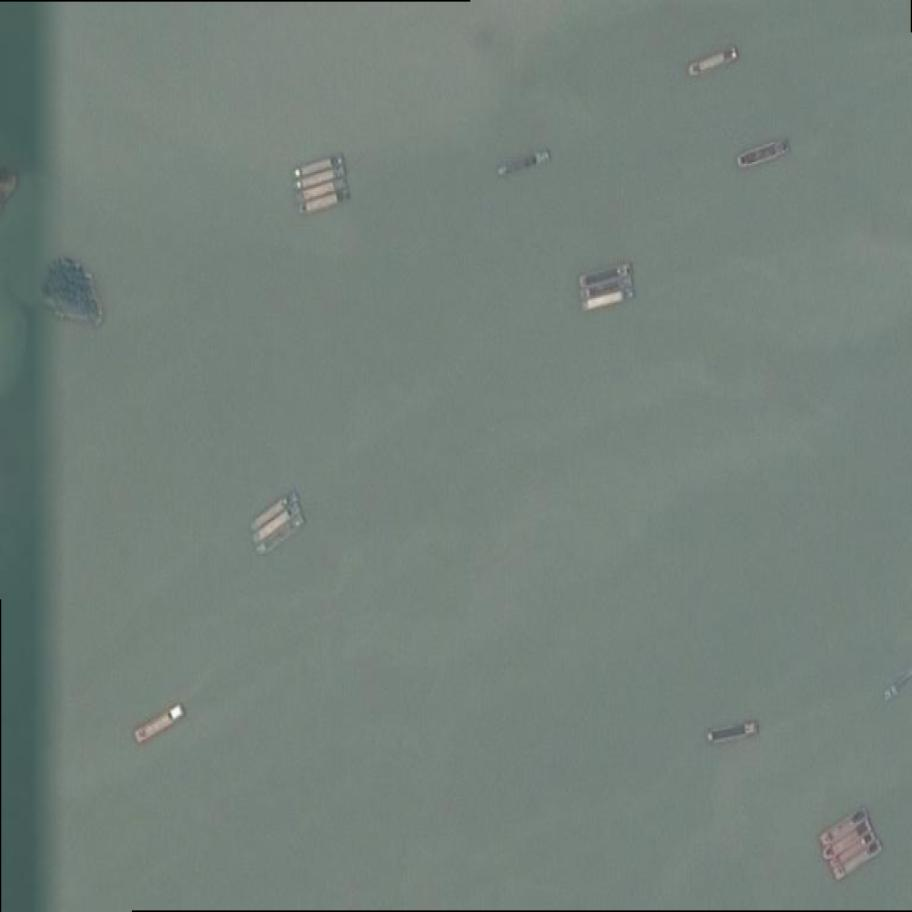ship: (833, 839, 887, 885), (133, 703, 188, 747), (250, 501, 303, 546), (248, 489, 302, 533), (821, 818, 874, 862), (256, 514, 308, 558), (829, 829, 880, 873), (820, 805, 871, 848), (496, 147, 554, 179), (737, 138, 793, 167), (688, 46, 741, 76), (582, 275, 637, 301), (580, 264, 635, 290), (583, 288, 638, 314), (294, 152, 345, 179), (300, 188, 350, 215), (296, 164, 347, 190), (300, 177, 349, 201), (709, 722, 758, 742)
